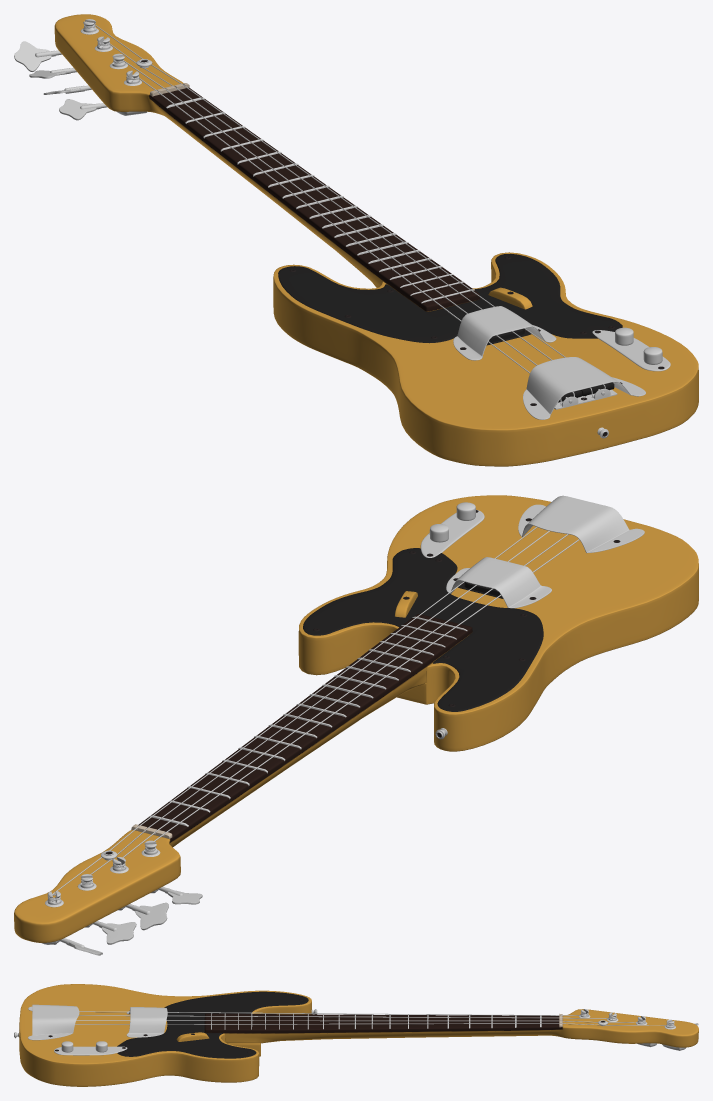
The model's file is bass_guitar.gltf.
The picture shows the model from 3 angles, top to bottom: view 1: azimuth 30°, elevation 25°; view 2: azimuth 150°, elevation 25°; view 3: azimuth 270°, elevation 25°; orthographic projection. The views are drawn at different scales.
Parts seen in each view (by area): view 1: Fender Precision Bass; view 2: Fender Precision Bass; view 3: Fender Precision Bass.
Part boxes in pixels (x1,y1,x2,y2): Fender Precision Bass: (14, 14, 698, 466); Fender Precision Bass: (14, 495, 698, 955); Fender Precision Bass: (14, 984, 698, 1086).
Bounding box in the file's own units: 0.8907 × 0.1916 × 3.21.
Materials: 1 (1 with a texture image).
